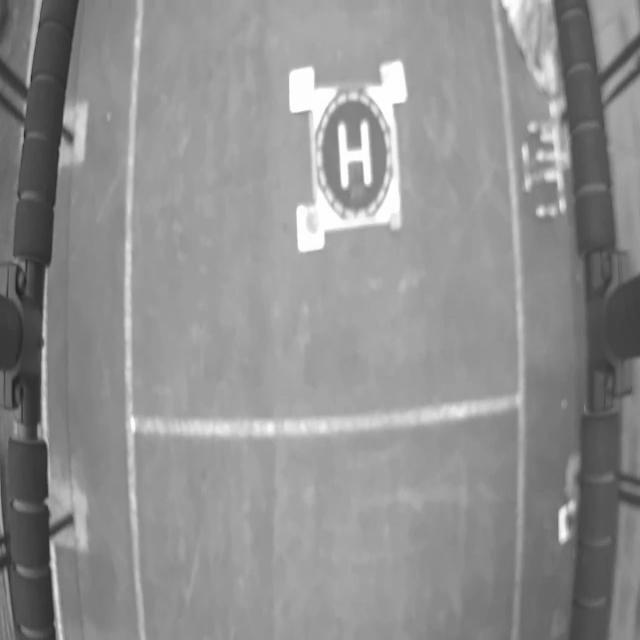Helipad: (338, 117, 373, 193)
